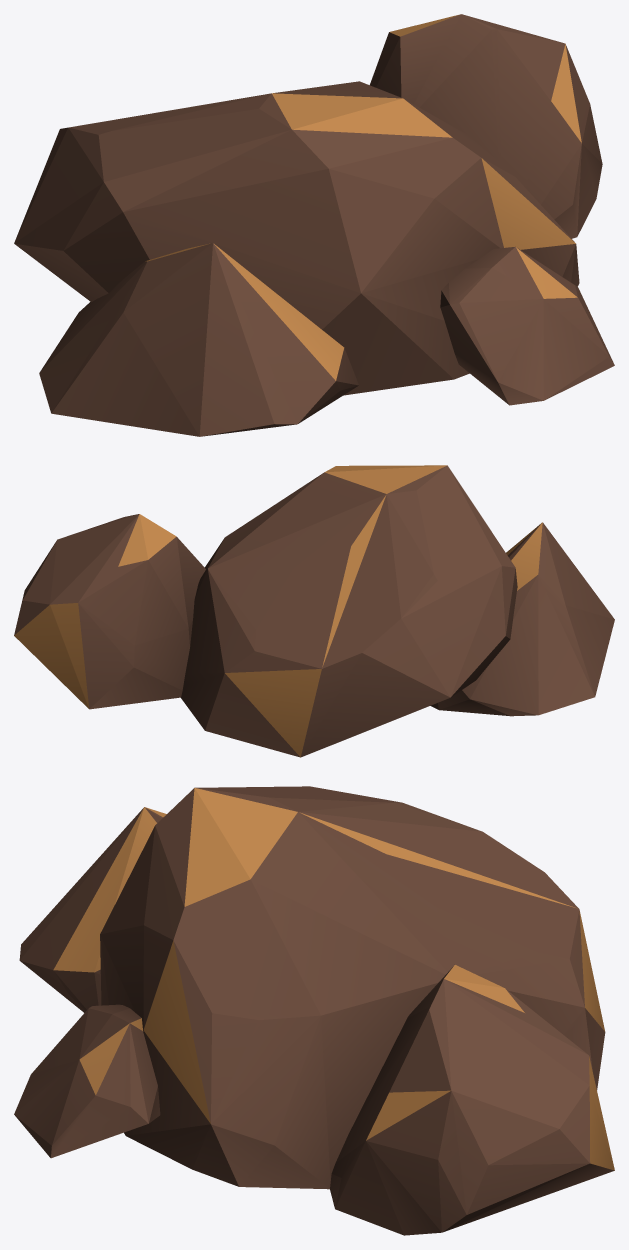
The model's file is rock_f.glb.
3 renders of one model, top to bottom at view 1: azimuth 30°, elevation 25°; view 2: azimuth 150°, elevation 25°; view 3: azimuth 270°, elevation 25°, orthographic. The views are drawn at different scales.
Visible parts, largest first — view 1: Rock; view 2: Rock; view 3: Rock.
Part boxes in pixels (box(x1,y1,x2,y2)): Rock: box(14, 14, 614, 436); Rock: box(14, 465, 614, 757); Rock: box(14, 786, 614, 1235).
Size of the model in its own units: 2.21 by 0.7862 by 1.73.
